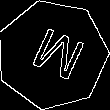M_SW: (21, 23, 84, 87)
